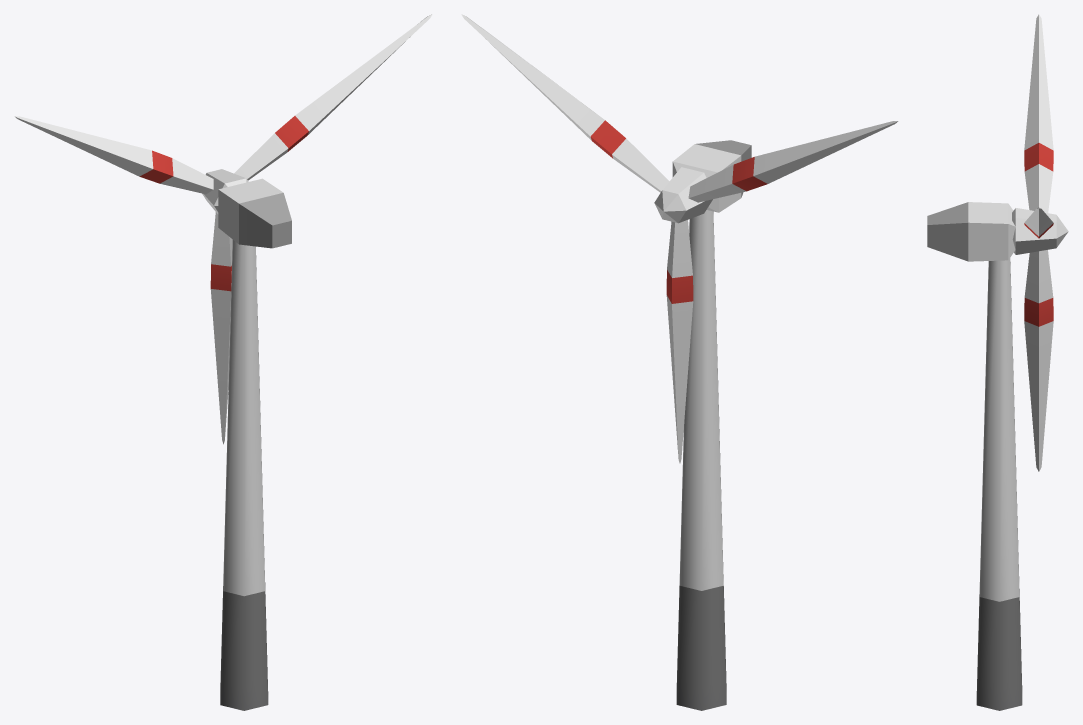
The model's file is Wind_generator.fbx.
The picture shows the model from 3 angles, left to right: view 1: azimuth 30°, elevation 25°; view 2: azimuth 150°, elevation 25°; view 3: azimuth 270°, elevation 25°; orthographic projection. The views are drawn at different scales.
Parts seen in each view (by area): view 1: body, wing; view 2: body, wing; view 3: body, wing.
Part boxes in pixels (x1,y1,x2,y2): body: (218, 178, 291, 710); wing: (14, 14, 432, 444); body: (672, 140, 751, 710); wing: (461, 14, 898, 463); body: (927, 202, 1022, 710); wing: (1012, 14, 1068, 471).
Size of the model in its own units: 4857 by 6859 by 1494.
